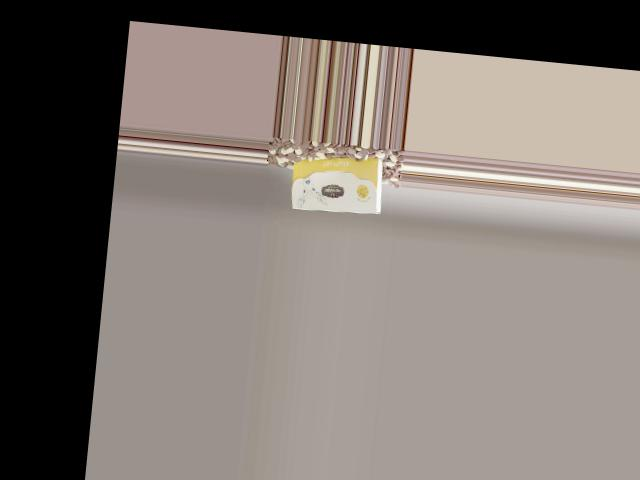chocolate: (283, 146, 390, 220)
